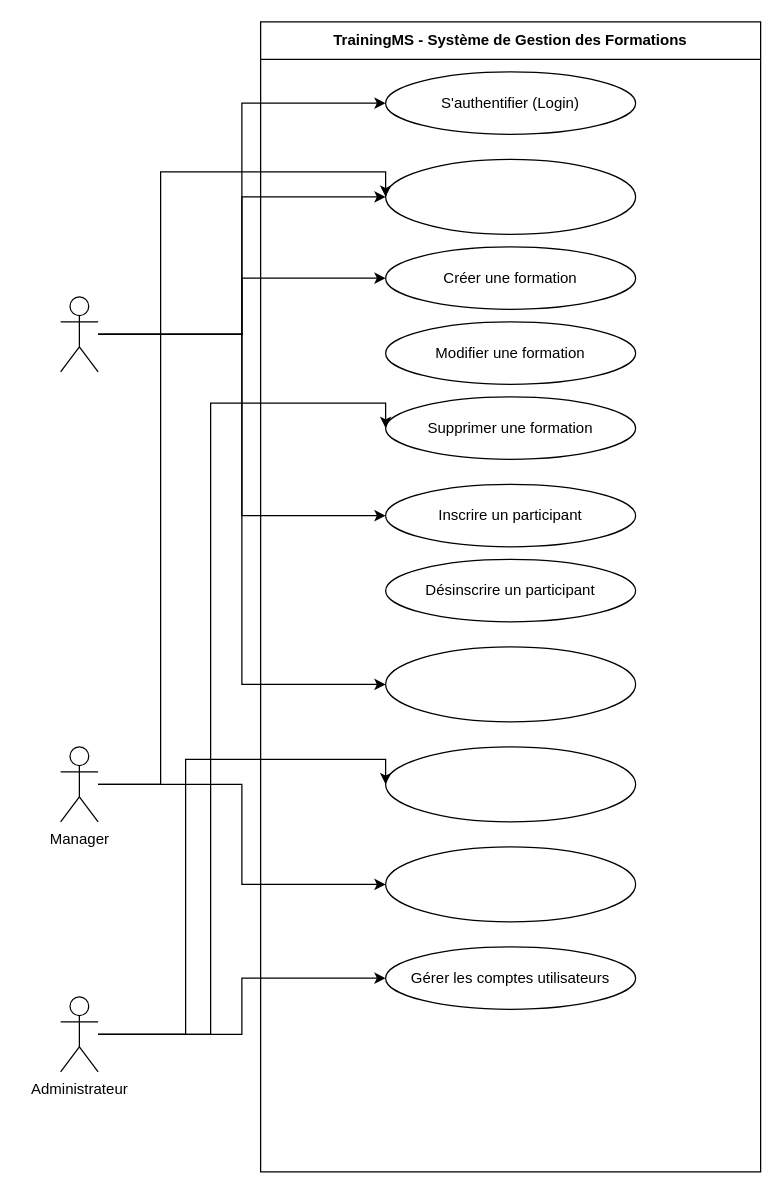
The diagram is 783 pixels wide and 1194 high, and some of its shapes have lost their labels. The shapes that lost their labels are listed below. From the top down, each one's centre as x and y in pixels, then its label:
At pixel 510 196: "Consulter le catalogue (Filtres année/domaine)".
At pixel 78 334: "Utilisateur Simple".
At pixel 510 684: "Gérer les fiches participants (CRUD)".
At pixel 510 784: "Gérer les référentiels (Domaines, Profils, Structures)".
At pixel 510 884: "Consulter le tableau de bord (Statistiques)".
